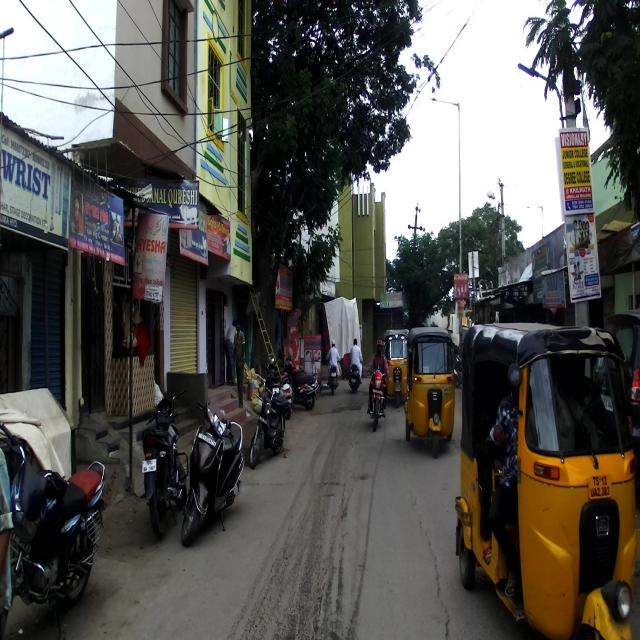autorickshaw: (453, 317, 638, 639), (404, 324, 455, 459)
motorcycle: (0, 418, 108, 640), (141, 386, 190, 538), (249, 374, 290, 470)
scooter: (180, 398, 246, 548)
